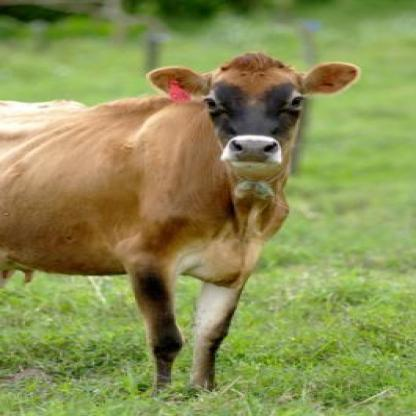lower: (237, 163, 268, 168)
mouth: (221, 135, 284, 170)
upper: (245, 144, 263, 150)
